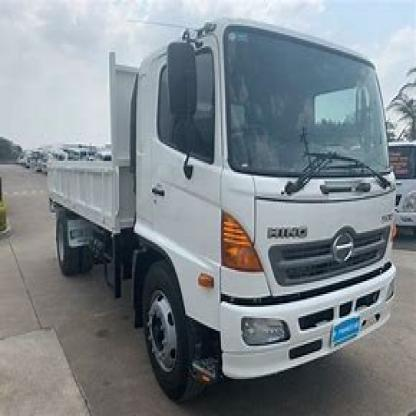dump_truck: (40, 9, 400, 405)
